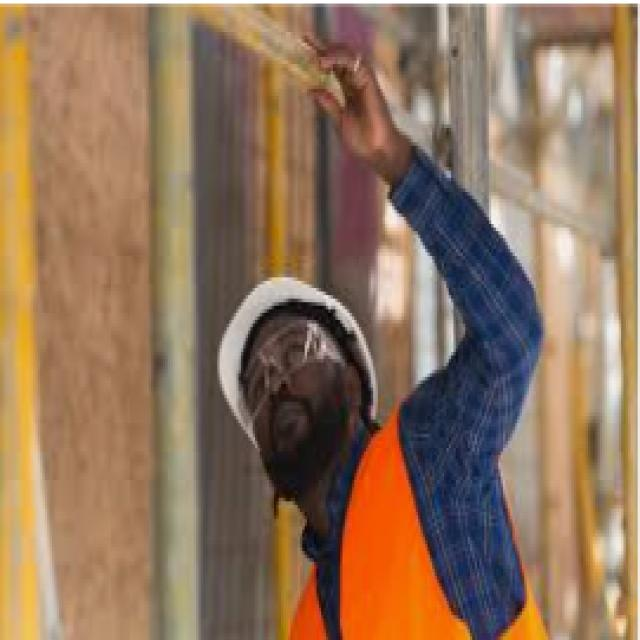glasses: (233, 324, 330, 414)
